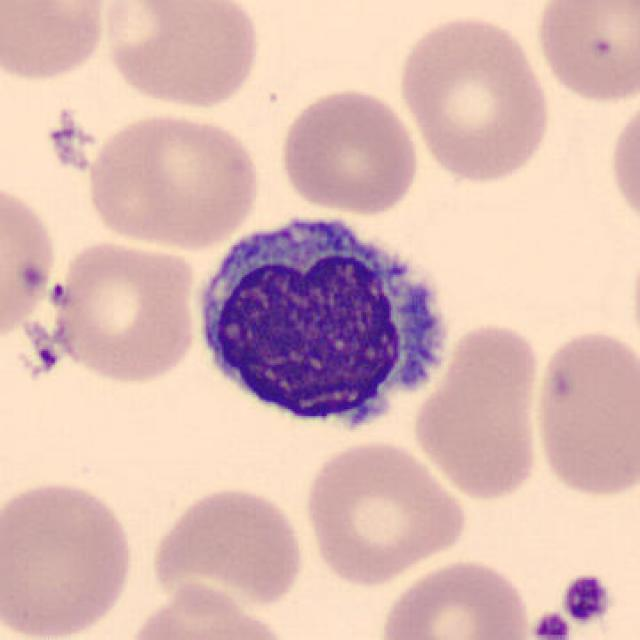Lymphocyte: (183, 203, 461, 446)
Platelets: (558, 571, 614, 626), (528, 608, 574, 640)
RBC: (393, 11, 555, 185), (299, 435, 469, 589), (82, 107, 265, 250), (409, 318, 547, 504), (39, 236, 203, 386), (0, 476, 140, 640), (146, 481, 309, 612), (526, 324, 640, 501), (276, 84, 422, 218), (101, 0, 265, 113), (373, 555, 535, 640), (532, 0, 638, 108), (121, 576, 297, 640), (0, 175, 59, 349), (0, 0, 114, 85), (606, 90, 640, 238)
